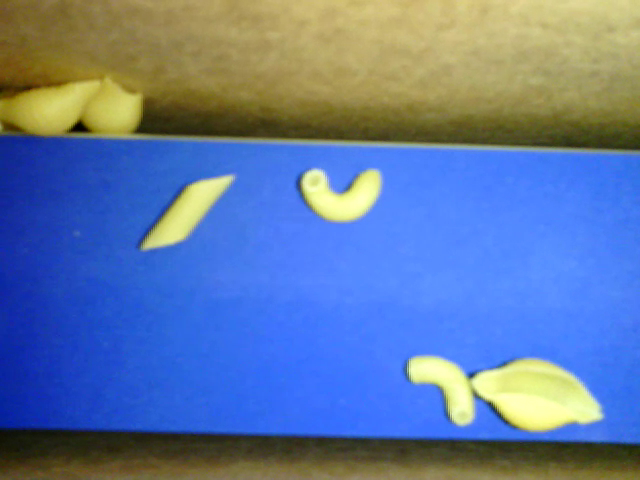elbow: (406, 353, 474, 426), (302, 164, 379, 223)
penne: (140, 172, 235, 253)
shell: (476, 355, 607, 431), (2, 77, 96, 135), (73, 75, 144, 135)
